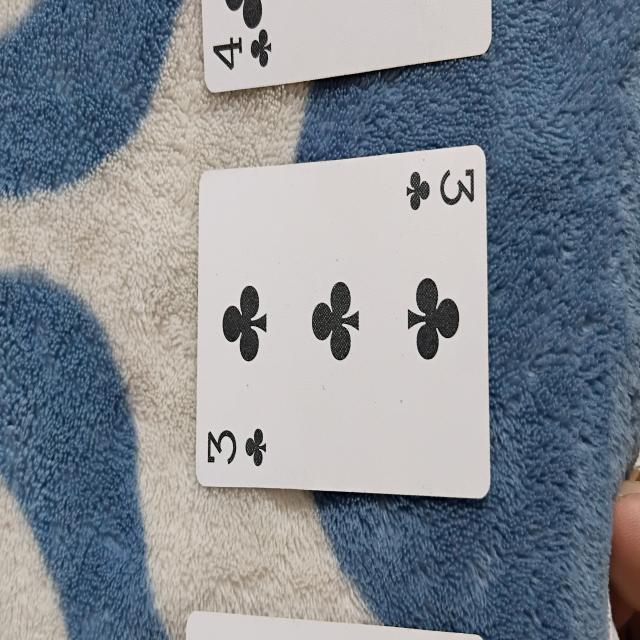3C: (198, 158, 482, 487)
